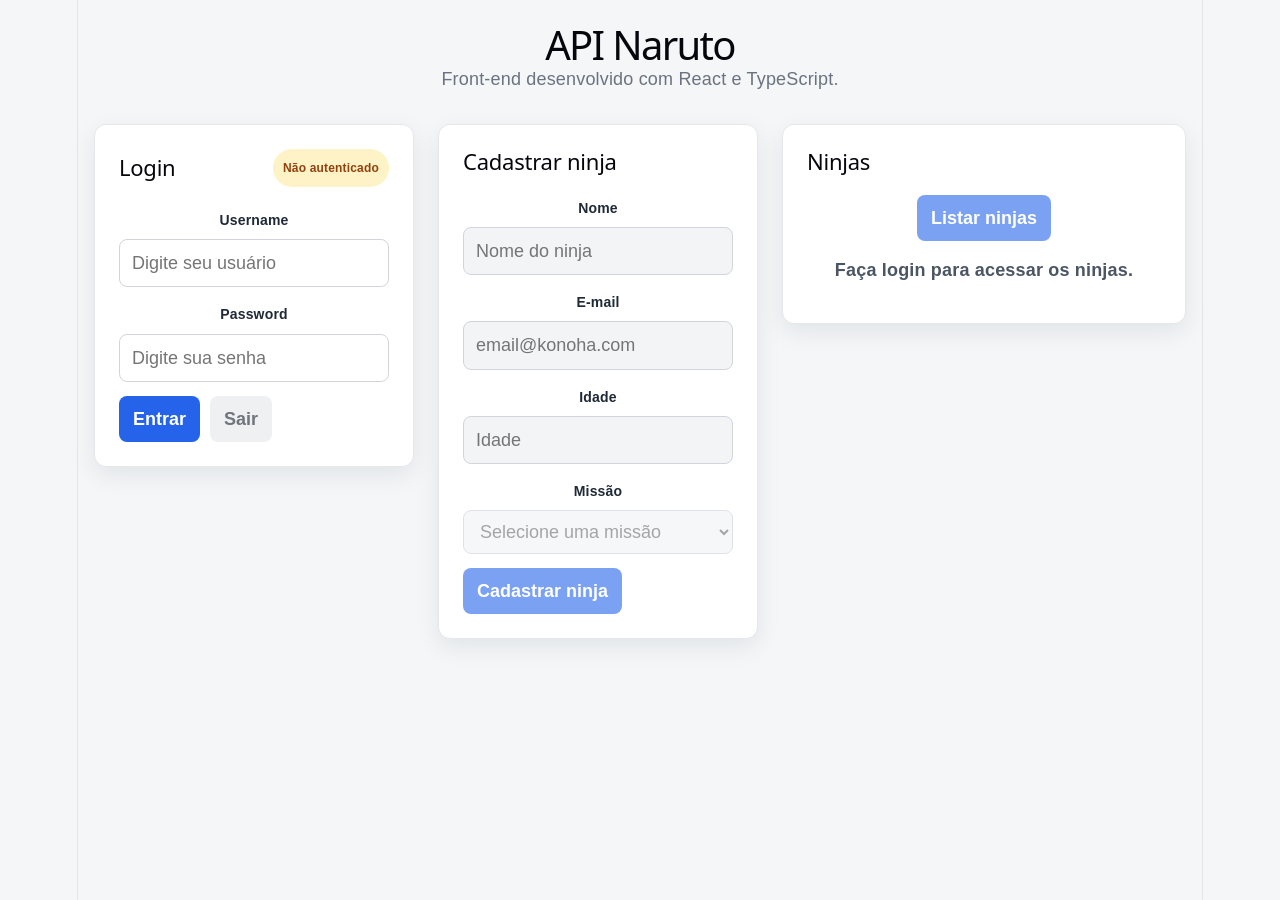
Test case: App › deve mostrar mensagem de erro quando login falhar
In the field labelled "Username": (254, 263) x1=119 y1=239 x2=389 y2=288, type "breno"
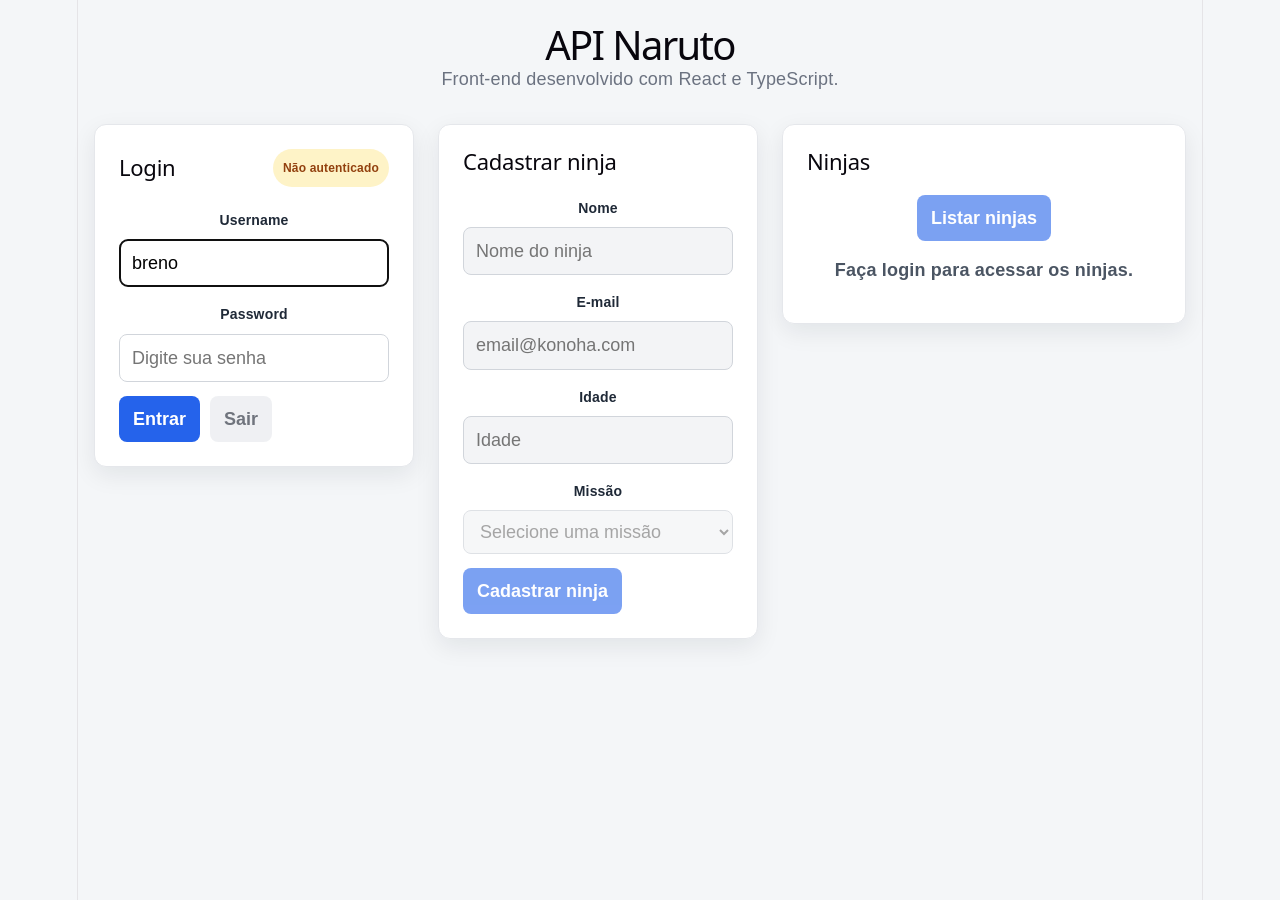
In the password field labelled "Password": (254, 358) x1=119 y1=334 x2=389 y2=382, type "errada"
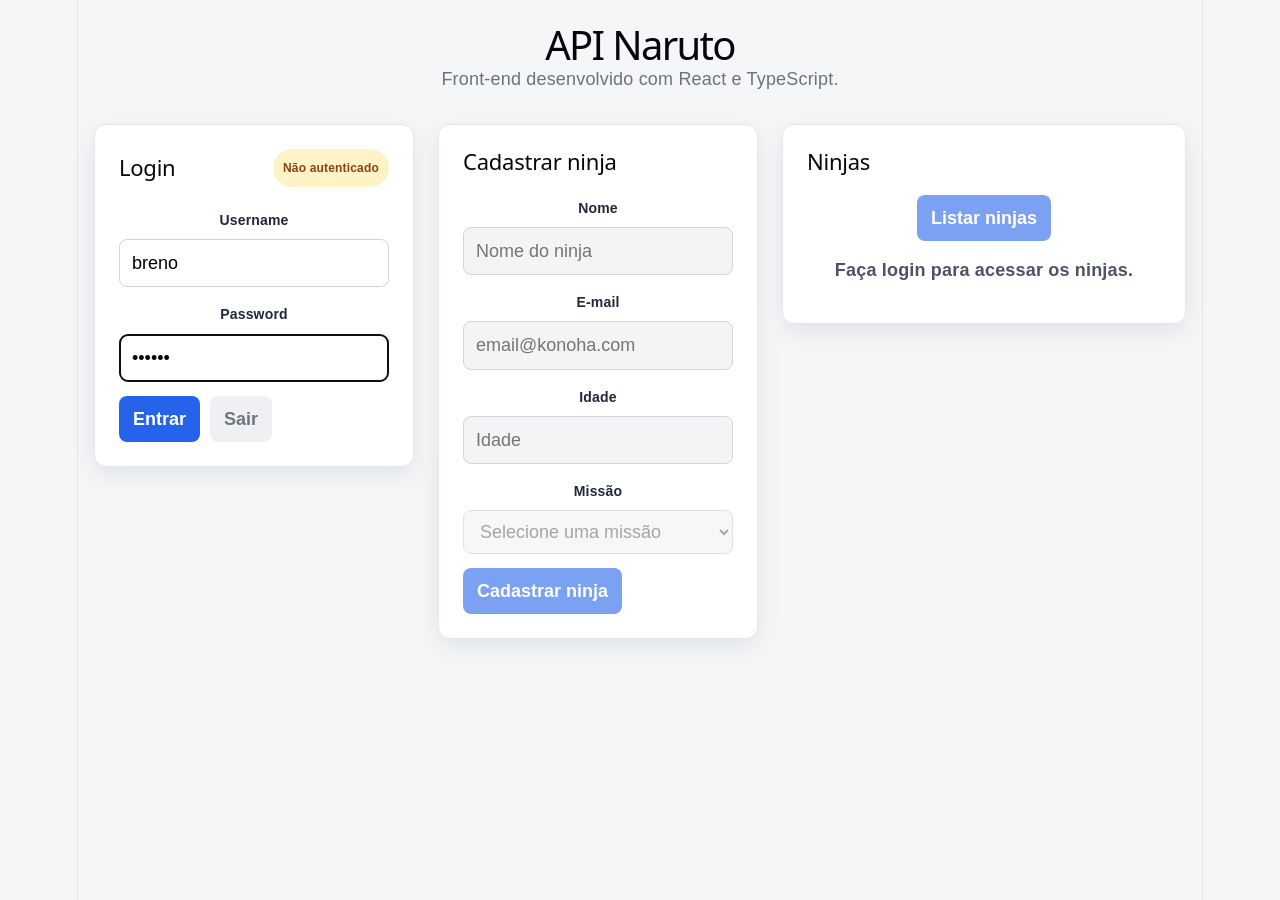
Click the button "Entrar": (160, 419) x1=119 y1=396 x2=200 y2=442
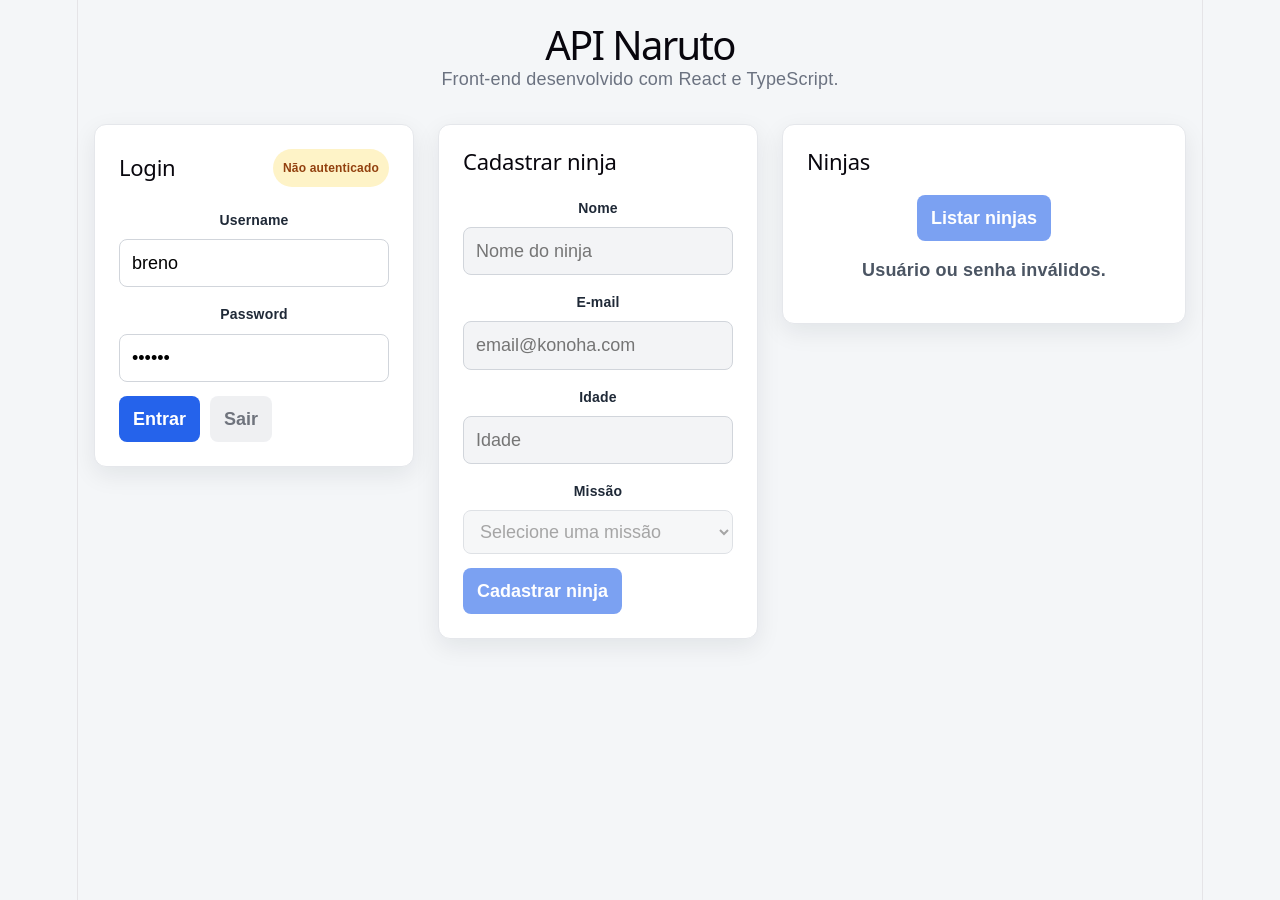
Expected: the text "Não autenticado" is shown, x1=273 y1=149 x2=389 y2=187
Result: the text "Usuário ou senha inválidos." is shown at x1=862 y1=260 x2=1106 y2=280
